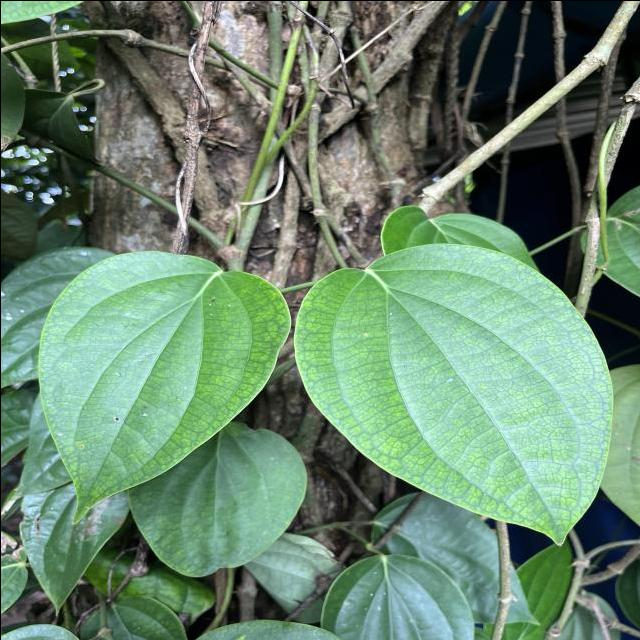Piper nigrum: (290, 241, 616, 548), (35, 248, 293, 524)
